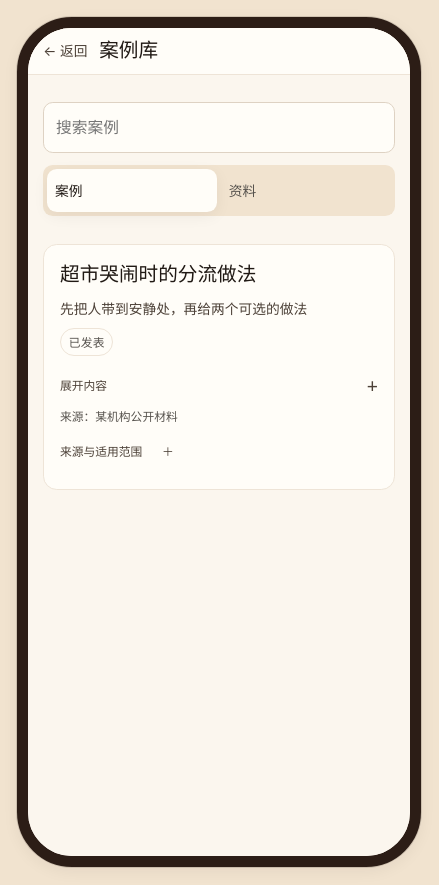
案例库浏览页 · 就地展开 › P0 点击卡片带 expand 重新取该条，展开内容随列表返回
This screenshot has width=439, height=885.
Check: the text "超市哭闹时的分流做法" is shown, box [60,264,256,285]
Click the button "超市哭闹时的分流做法 先把人带到安静处，再给两个可选的做法 已发表 展开内容 +".
click(158, 275)  # box [60,260,378,400]
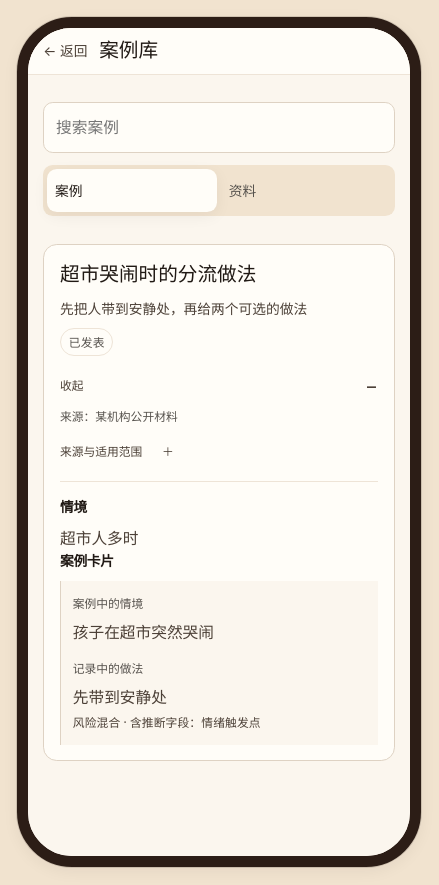
Check: the heading "情境" is shown, box [60,497,87,516]
Check: the text "超市人多时" is shown, box [60,526,138,548]
Check: the heading "案例卡片" is shown, box [60,551,114,570]
